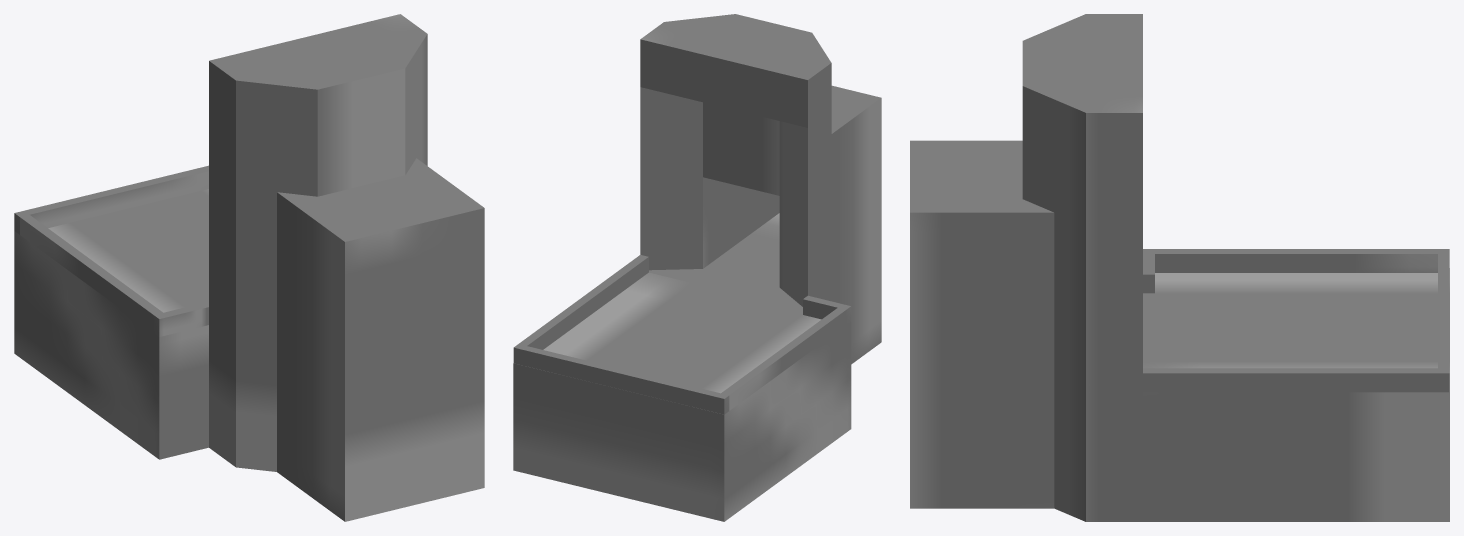
File: Balcony_2_EWM.fbx
3 views of the same model, side by side, from view 1: azimuth 30°, elevation 25°; view 2: azimuth 150°, elevation 25°; view 3: azimuth 270°, elevation 25° (orthographic). The views are drawn at different scales.
Visible parts, largest first — view 1: Balcony_2_EWM; view 2: Balcony_2_EWM; view 3: Balcony_2_EWM.
Part boxes in pixels (x1=…): Balcony_2_EWM: x1=14, y1=14, x2=484, y2=521; Balcony_2_EWM: x1=513, y1=14, x2=881, y2=521; Balcony_2_EWM: x1=910, y1=14, x2=1449, y2=521.
Bounding box in the file's own units: 1242 × 1904 × 2276.
